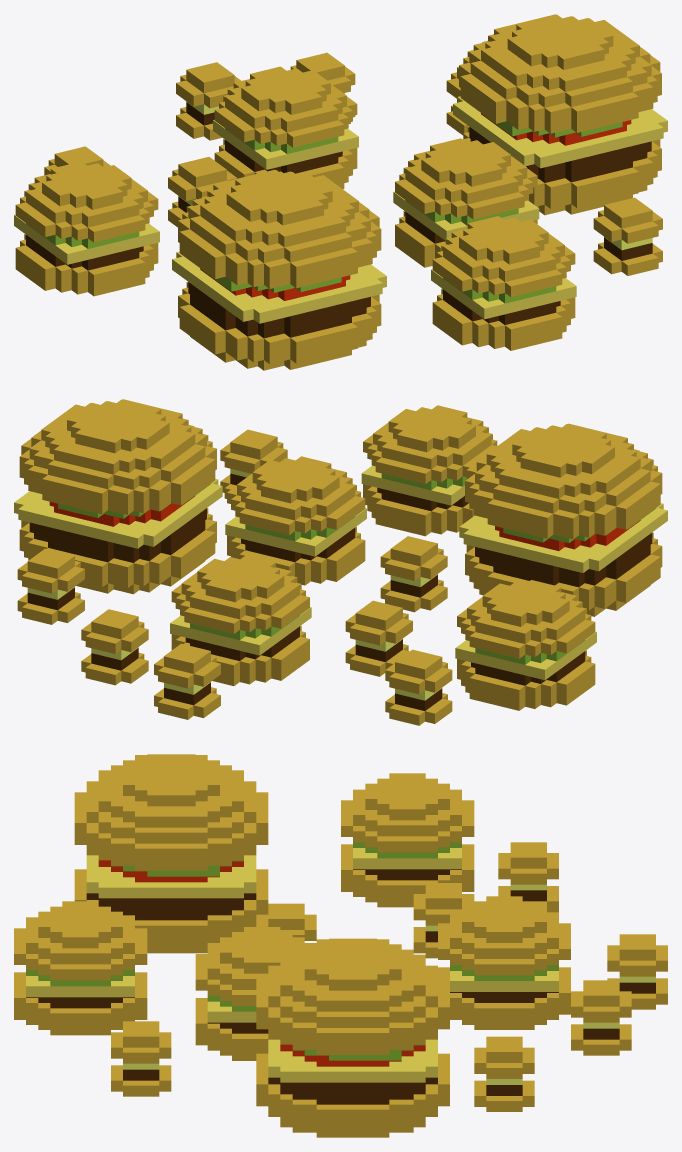
The model's file is burger_inner.obj.
3 views of the same model, one above another, from view 1: azimuth 30°, elevation 25°; view 2: azimuth 150°, elevation 25°; view 3: azimuth 270°, elevation 25° (orthographic). The views are drawn at different scales.
Parts seen in each view (by area): view 1: burger_inner; view 2: burger_inner; view 3: burger_inner.
Part boxes in pixels (x1,y1,x2,y2): burger_inner: (14, 14, 667, 370); burger_inner: (14, 399, 667, 725); burger_inner: (14, 754, 667, 1137).
Bounding box in the file's own units: 114 × 26 × 108.
Materials: 1 (1 with a texture image).
